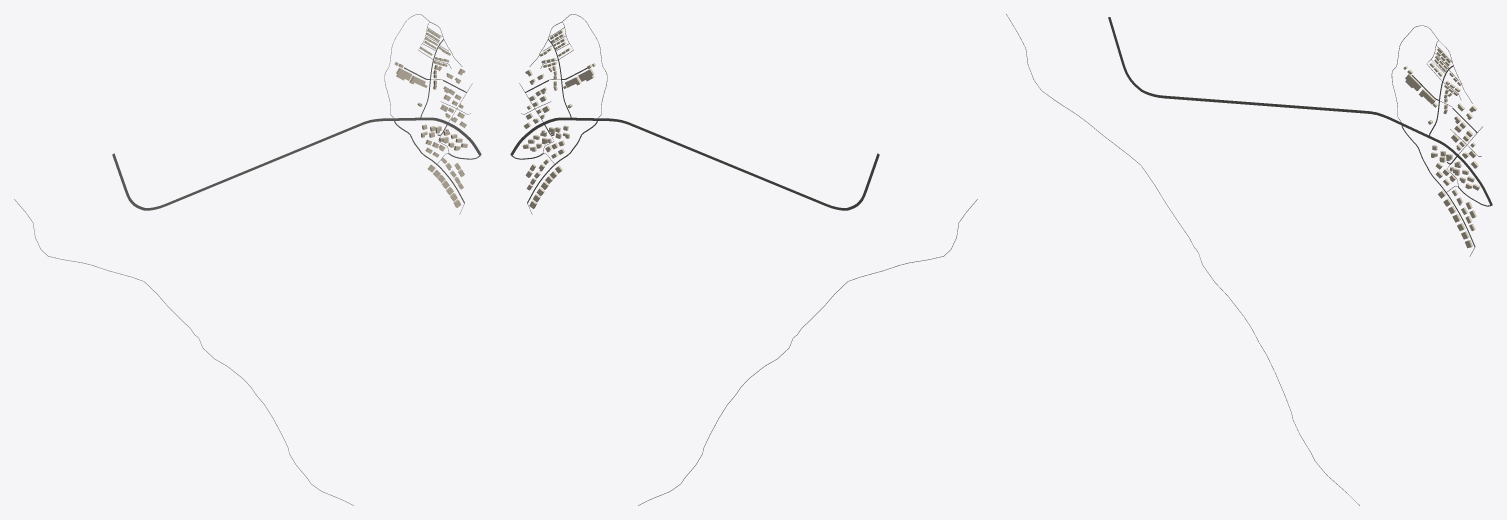
File: historic-palestine-11_25_3533_3193.glb
3 views of the same model, side by side, from view 1: azimuth 30°, elevation 25°; view 2: azimuth 150°, elevation 25°; view 3: azimuth 330°, elevation 25° (orthographic). The views are drawn at different scales.
Parts seen in each view (by area): view 1: Road שדרות הרימון; view 2: Road שדרות הרימון; view 3: Road שדרות הרימון, Road .009.
Part boxes in pixels (<box>): Road שדרות הרימון: <box>112,117,481,210</box>; Road שדרות הרימון: <box>510,117,879,210</box>; Road שדרות הרימון: <box>1108,17,1492,205</box>; Road .009: <box>1006,14,1359,505</box>.
Bounding box in the file's own units: 1490 × 1450 × 11.2.
